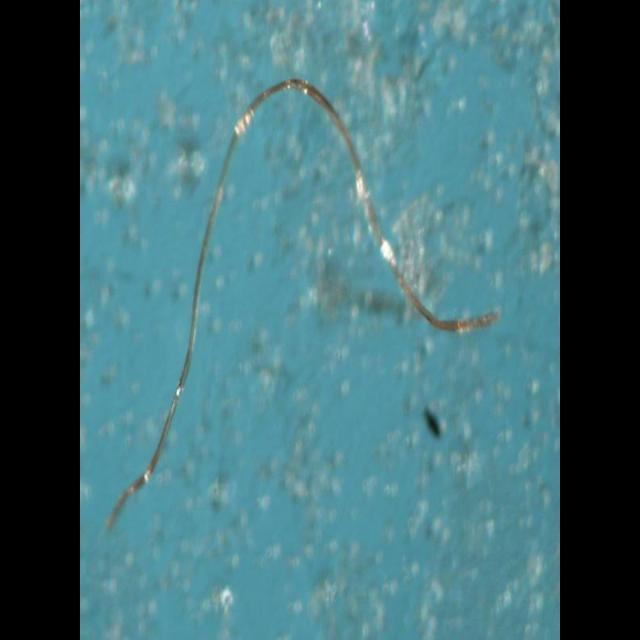Fibre: (105, 76, 499, 530)
